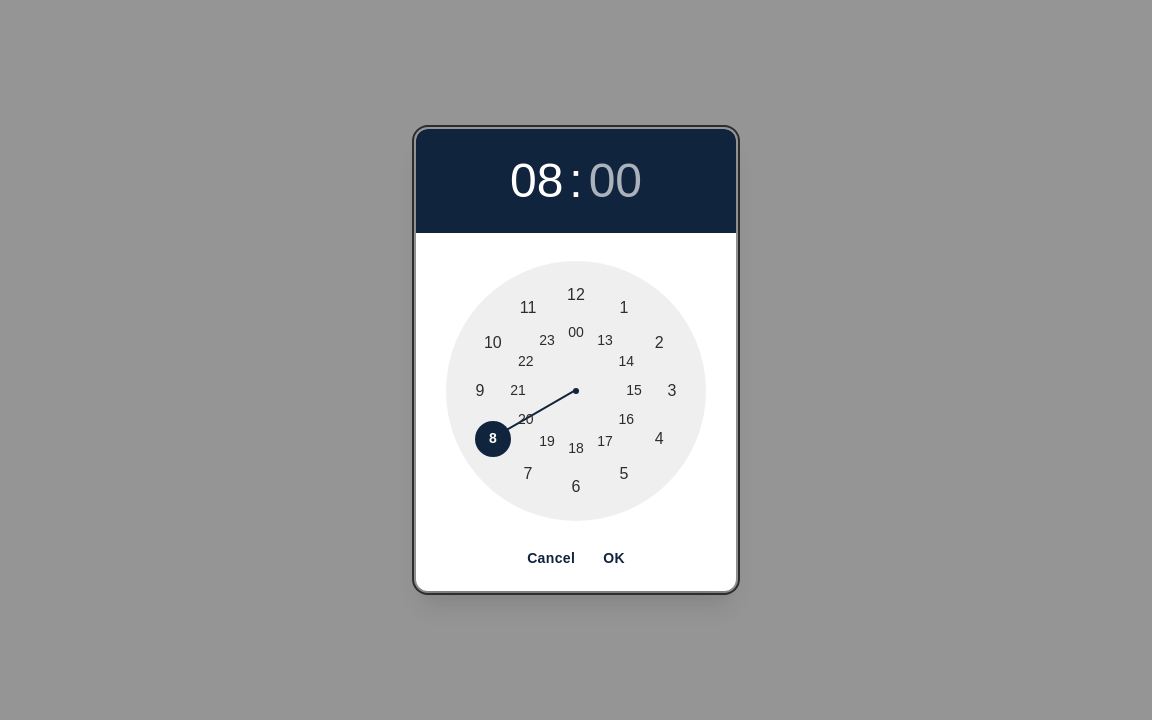
Scenario: TimePickerModal › jumps back to the hour dial by clicking the header hour segment
This screenshot has width=1152, height=720.
Click the button named "9 o'clock": (480, 391) left=466, top=377, right=494, bottom=405
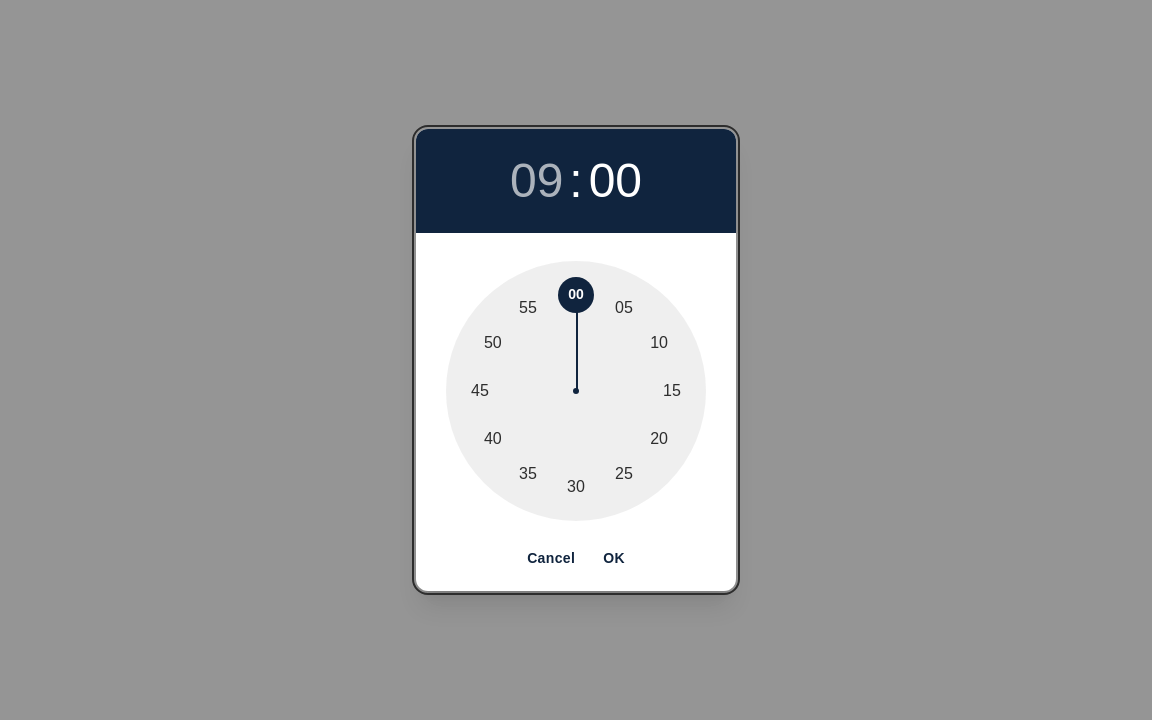
Click the button "09": (537, 181) left=510, top=157, right=563, bottom=205
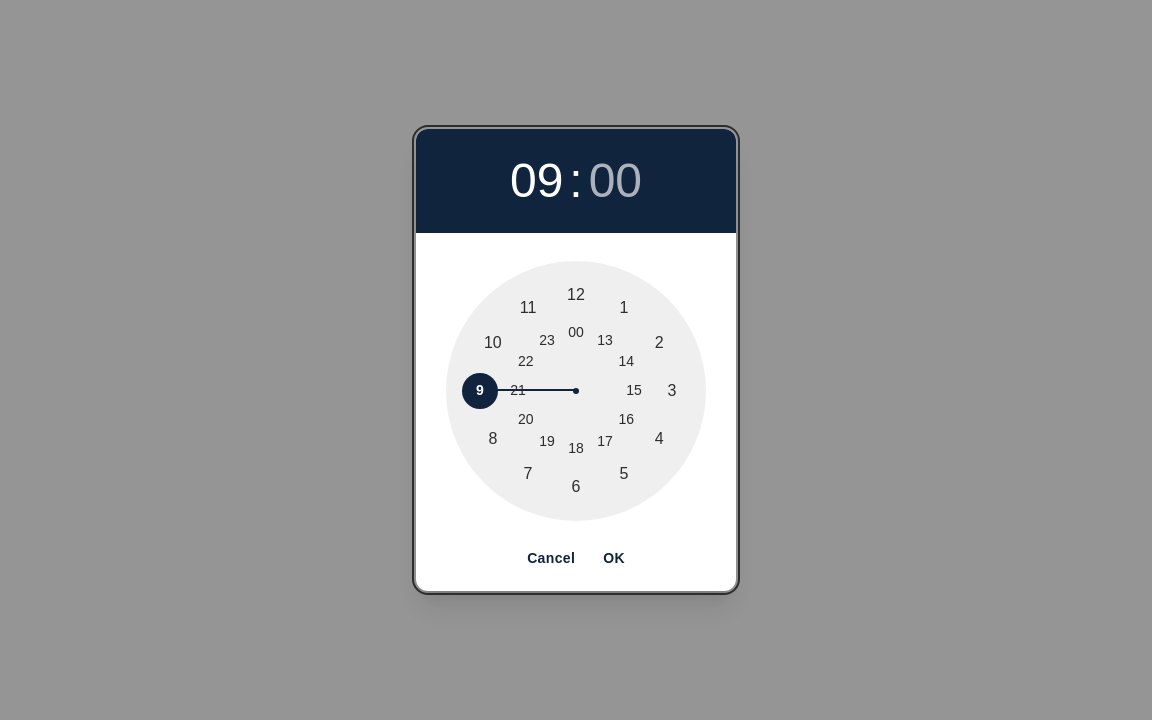
Now the button named "9 o'clock" is shown, box left=466, top=377, right=494, bottom=405
